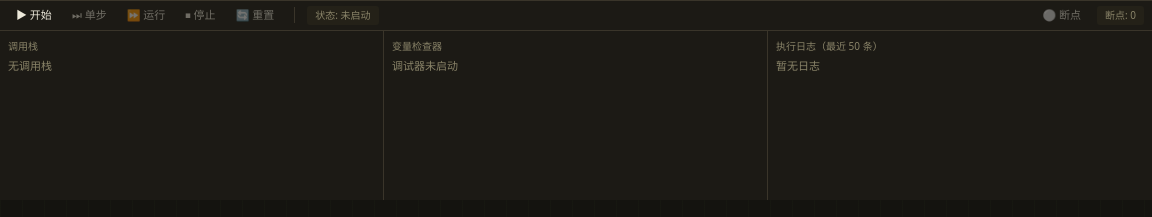
Test case: DebuggerPanel › 3. 点击"单步"按钮触发 step，沿控制流推进
This screenshot has width=1152, height=217.
Click the button with aria-label "开始调试" at (34, 15), box [8, 5, 60, 26]
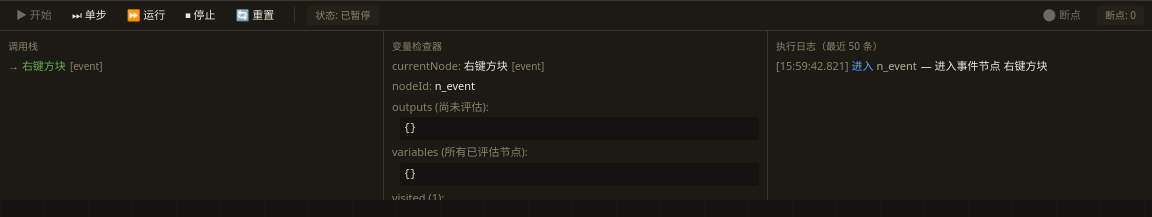
expect the text "n_event" next to "nodeId:" is shown: met, box [435, 78, 475, 93]
Note: 单步：评估 event，推进到 condition
Click the button with aria-label "单步执行" at (89, 15), box [64, 5, 115, 26]
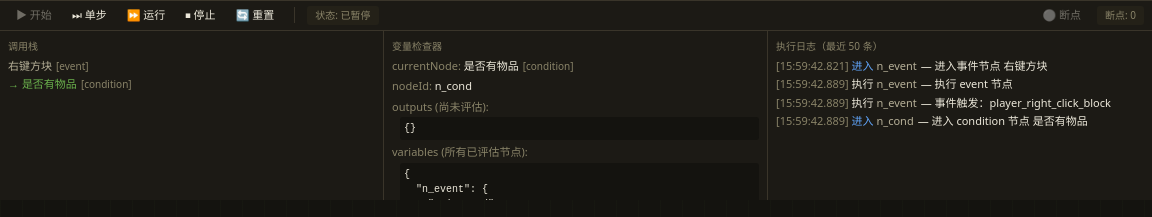
expect the text "n_cond" next to "nodeId:" is shown: met, box [435, 78, 472, 93]
Note: 单步：评估 condition（chance → true），推进到 action
Click the button with aria-label "单步执行" at (89, 15), box [64, 5, 115, 26]
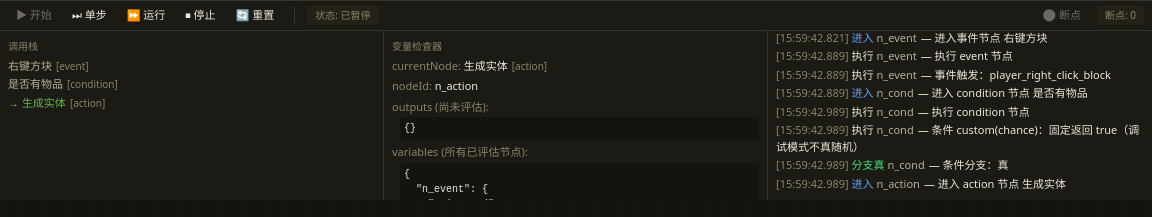
expect the text "n_action" next to "nodeId:" is shown: met, box [435, 78, 478, 93]
